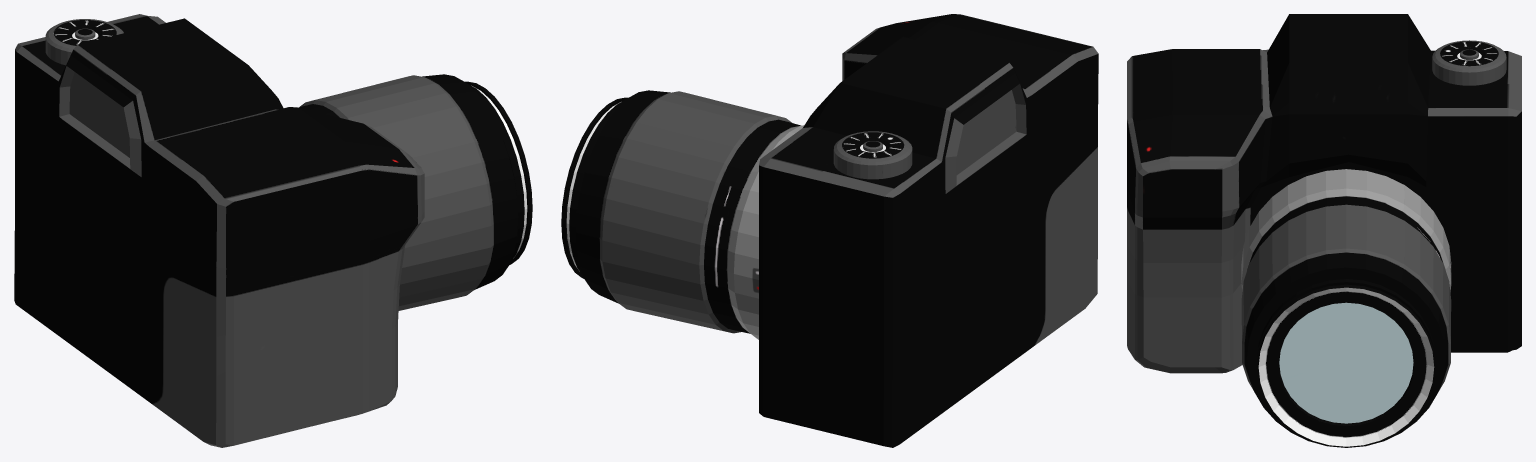
The model's file is appareil_photo.gltf.
3 renders of one model, left to right at view 1: azimuth 30°, elevation 25°; view 2: azimuth 150°, elevation 25°; view 3: azimuth 270°, elevation 25°, orthographic. The views are drawn at different scales.
Visible parts, largest first — view 1: boitier, objectif, bouton; view 2: boitier, objectif, bouton; view 3: boitier, objectif, bouton.
Part boxes in pixels (left/top/right/bottom): boitier: left=14, top=14, right=424, bottom=447; objectif: left=299, top=74, right=532, bottom=310; bouton: left=45, top=19, right=123, bottom=65; boitier: left=759, top=14, right=1098, bottom=447; objectif: left=561, top=90, right=804, bottom=339; bouton: left=833, top=131, right=912, bottom=179; boitier: left=1127, top=14, right=1521, bottom=373; objectif: left=1241, top=169, right=1451, bottom=447; bouton: left=1432, top=40, right=1506, bottom=85.
Size of the model in its own units: 8.17 by 6.1 by 7.71.
3 materials, 3 textured.
